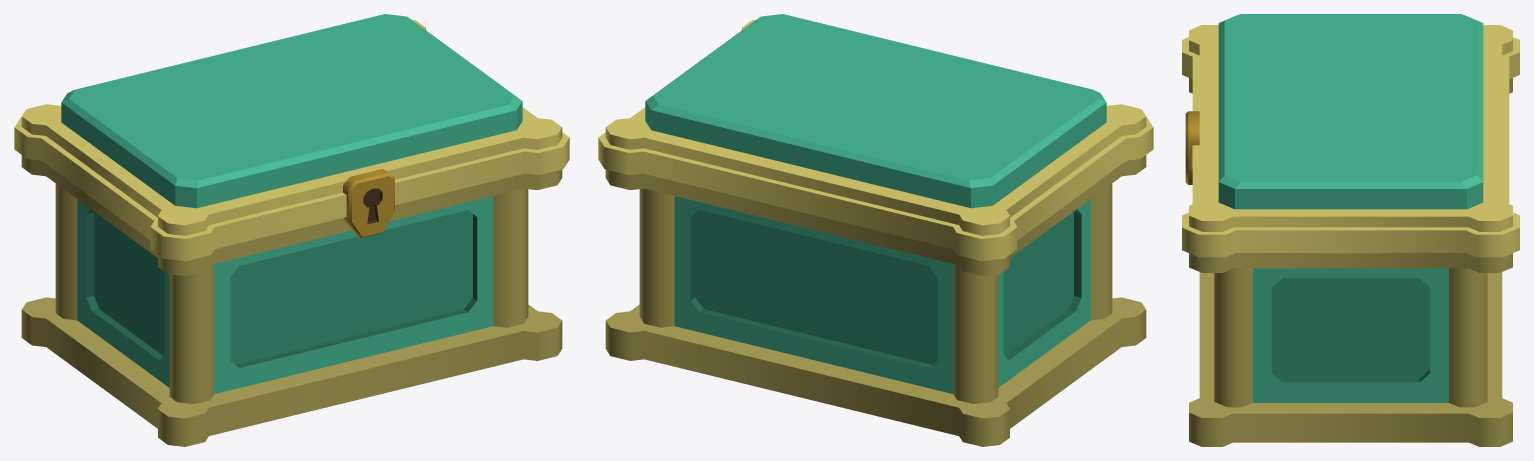
Rendered from Rich chest.fbx.
The picture shows the model from 3 angles, left to right: view 1: azimuth 30°, elevation 25°; view 2: azimuth 150°, elevation 25°; view 3: azimuth 270°, elevation 25°; orthographic projection.
Visible parts, largest first — view 1: chest, cover, lock; view 2: chest, cover; view 3: cover, chest, lock.
Part boxes in pixels (left/top/right/bottom): chest: left=21, top=155, right=562, bottom=446; cover: left=14, top=14, right=569, bottom=261; lock: left=343, top=169, right=394, bottom=238; chest: left=605, top=155, right=1146, bottom=446; cover: left=598, top=14, right=1153, bottom=261; cover: left=1182, top=14, right=1519, bottom=257; chest: left=1189, top=78, right=1512, bottom=446; lock: left=1185, top=111, right=1199, bottom=184.
Size of the model in its own units: 341 by 198 by 241.
